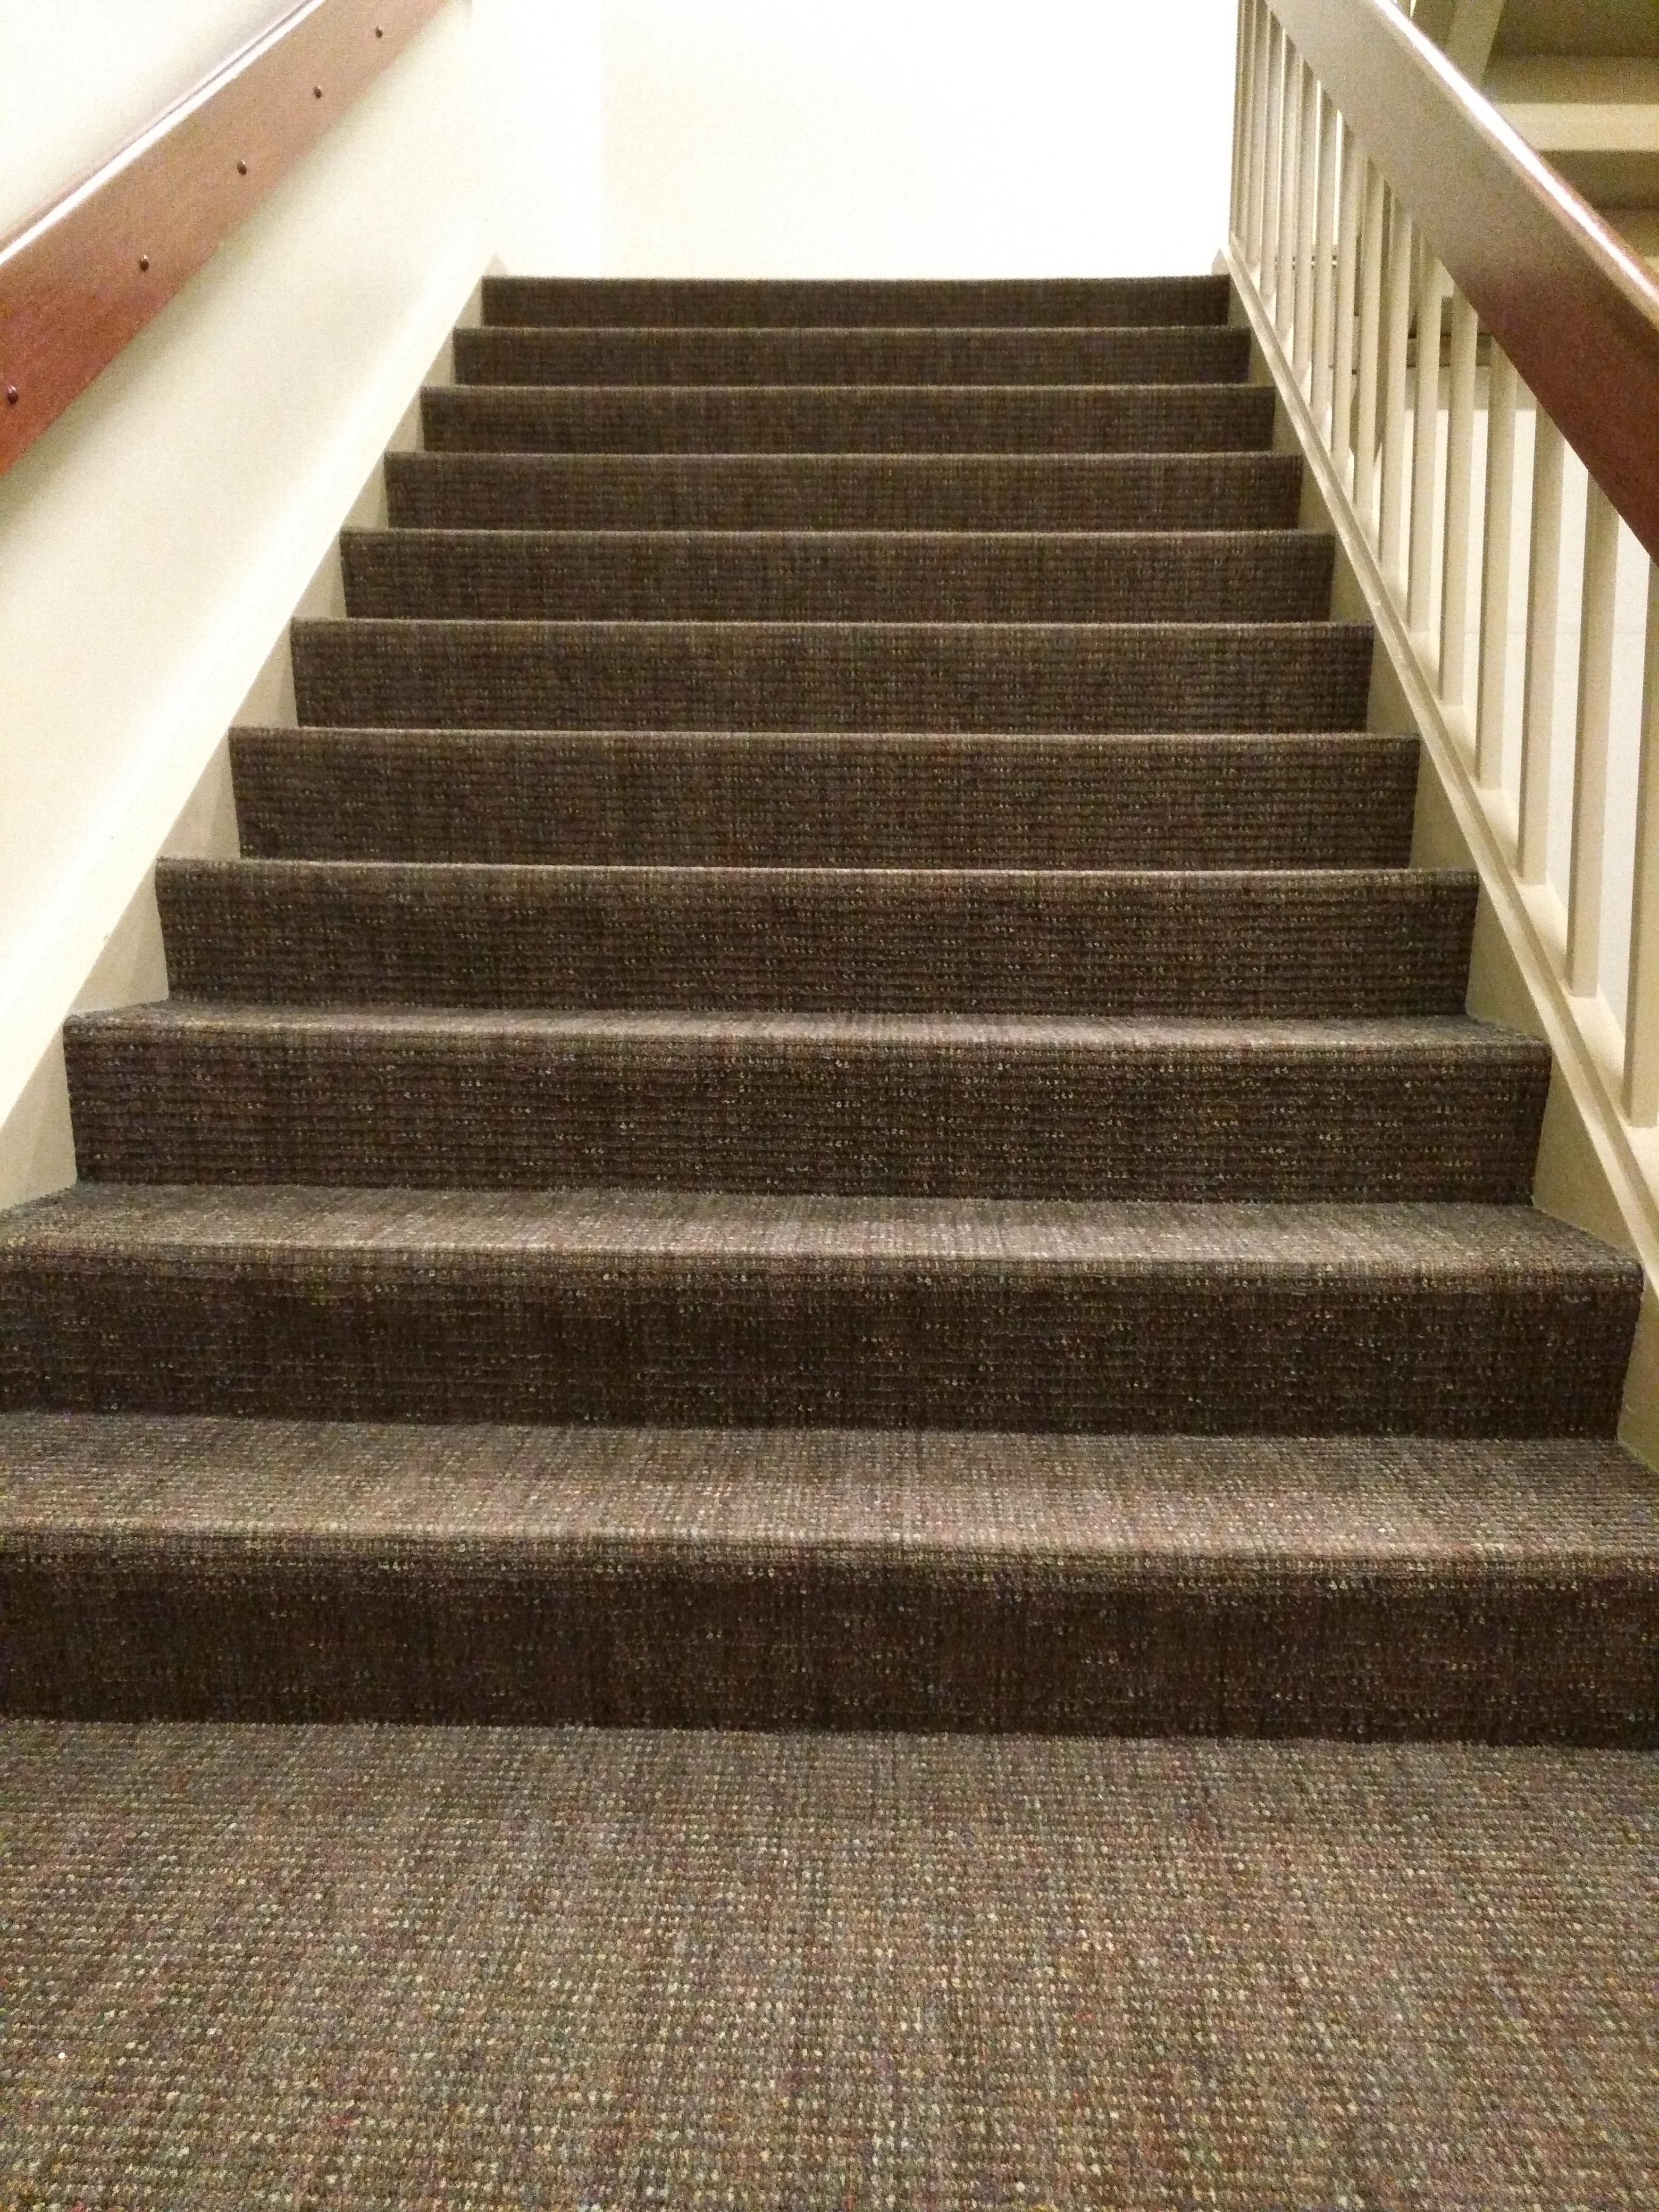stairs_up: (0, 226, 1659, 1808)
